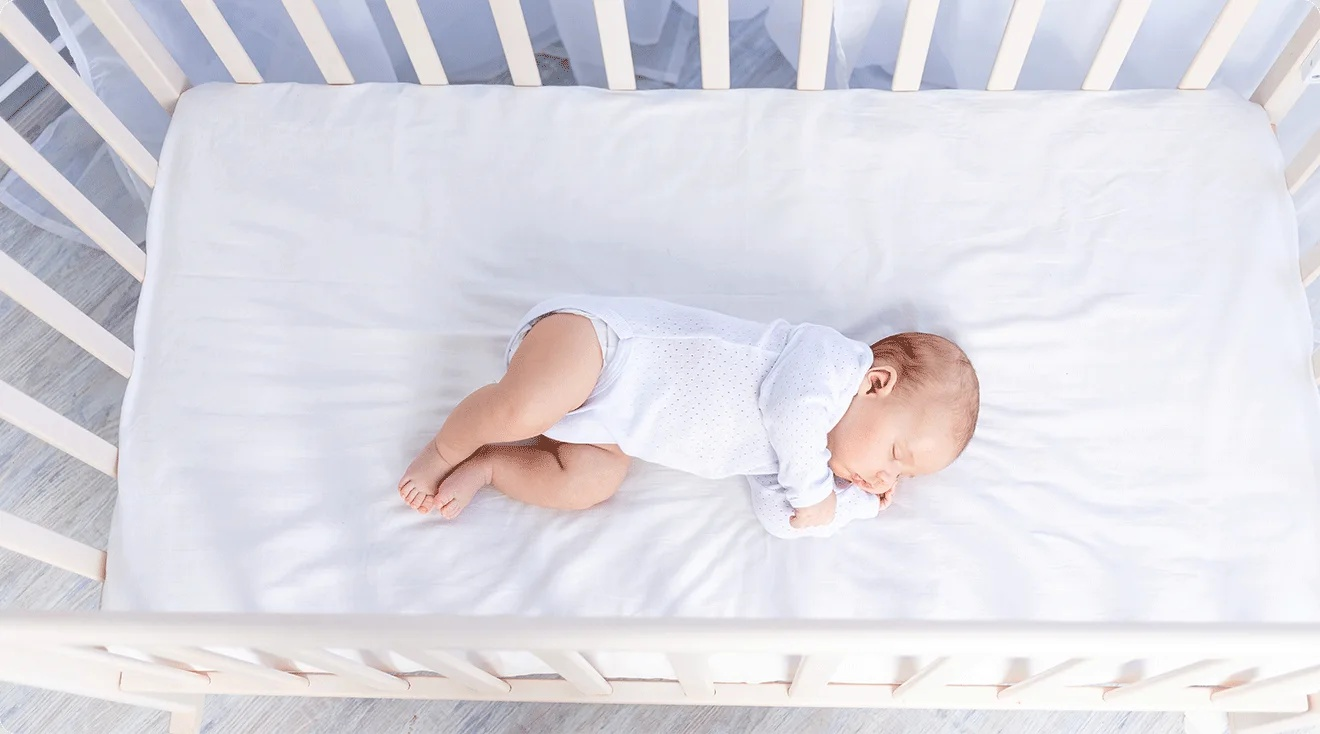baby: (398, 297, 978, 535)
crib: (0, 0, 1319, 733)
